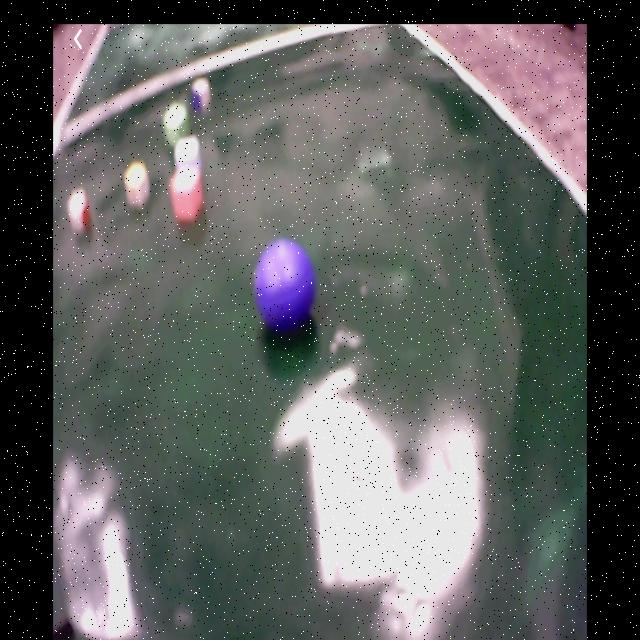ball: (255, 239, 316, 329)
